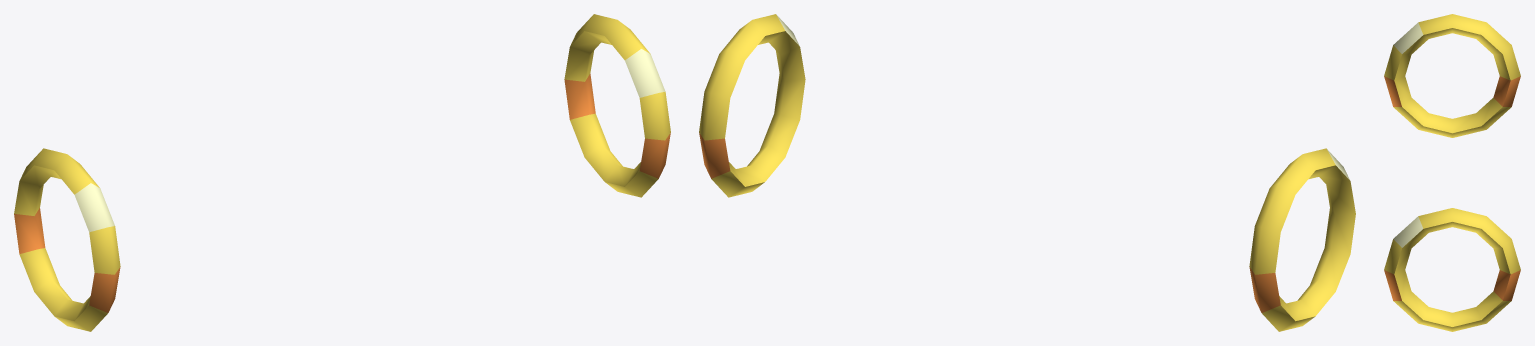
Rendered from earrings_hoops.fbx.
3 views of the same model, side by side, from view 1: azimuth 30°, elevation 25°; view 2: azimuth 150°, elevation 25°; view 3: azimuth 270°, elevation 25° (orthographic). The views are drawn at different scales.
Visible parts, largest first — view 1: earrings_hoops; view 2: earrings_hoops; view 3: earrings_hoops.
Boxes of the visible parts, left/top/right/bottom form: earrings_hoops: left=14, top=14, right=670, bottom=331; earrings_hoops: left=699, top=14, right=1355, bottom=331; earrings_hoops: left=1384, top=14, right=1520, bottom=331.
Bounding box in the file's own units: 127 × 36.35 × 36.35.
1 material, 1 textured.
